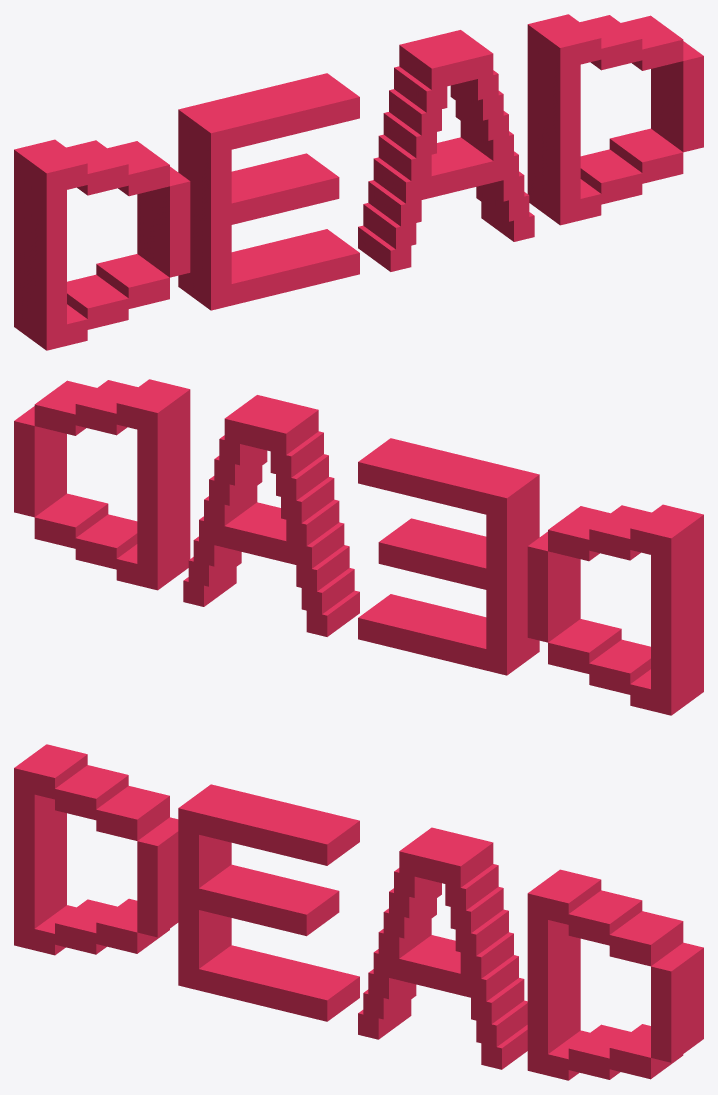
File: dead.obj
3 views of the same model, one above another, from view 1: azimuth 30°, elevation 25°; view 2: azimuth 150°, elevation 25°; view 3: azimuth 330°, elevation 25° (orthographic).
Bounding box in the file's own units: 12.8 × 3.6 × 1.1.
Materials: 1 (1 with a texture image).
